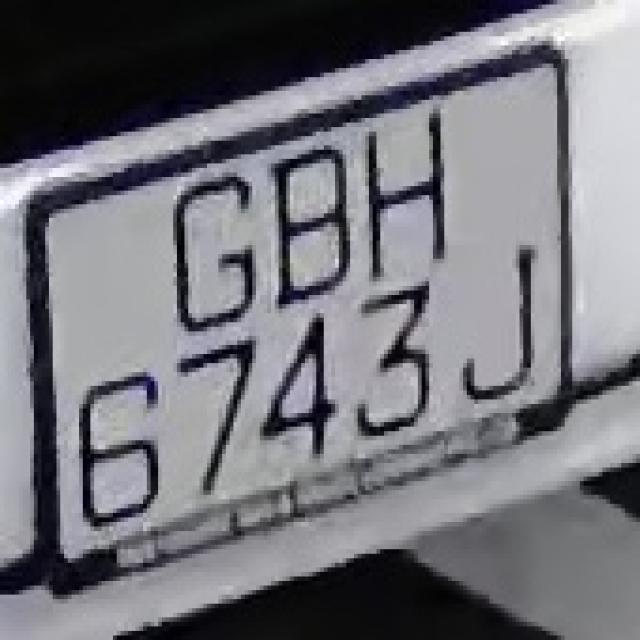3: (342, 272, 437, 454)
4: (256, 318, 350, 472)
6: (76, 368, 170, 540)
7: (162, 327, 263, 504)
B: (260, 141, 361, 304)
G: (150, 154, 260, 340)
H: (350, 100, 448, 281)
J: (459, 245, 550, 409)
